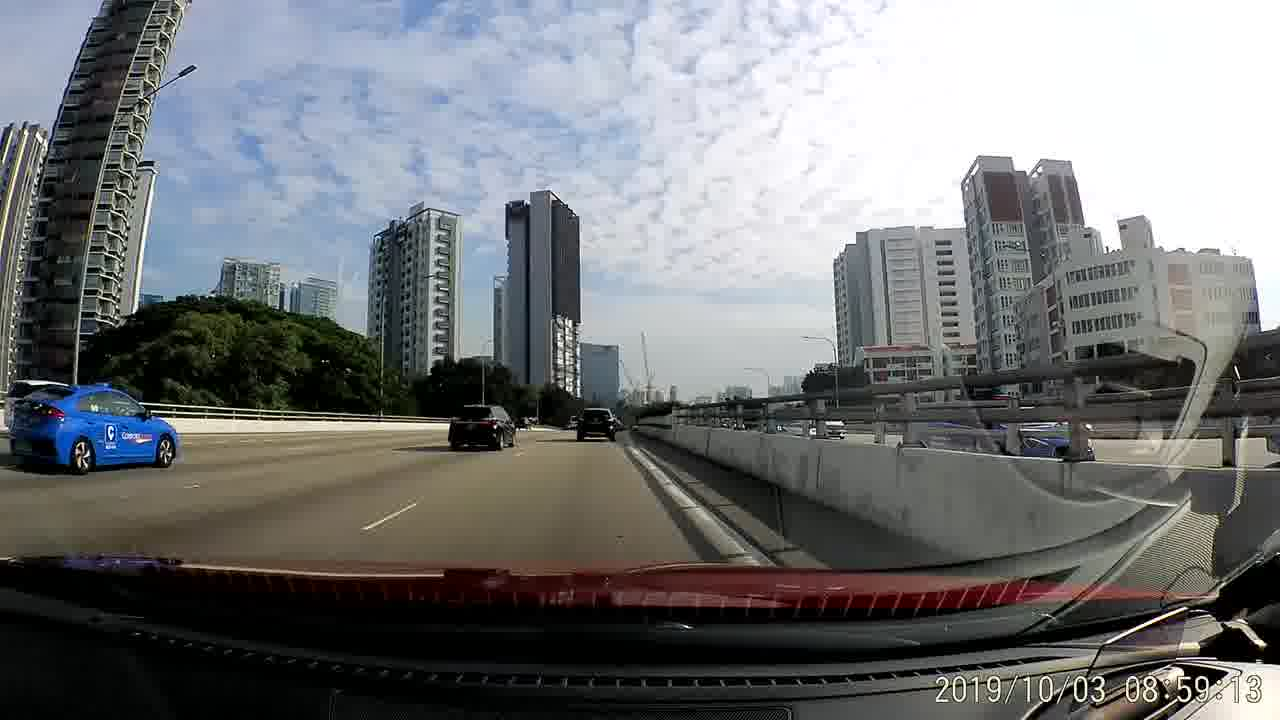car: (17, 383, 178, 472), (447, 401, 519, 448), (575, 405, 618, 443)
